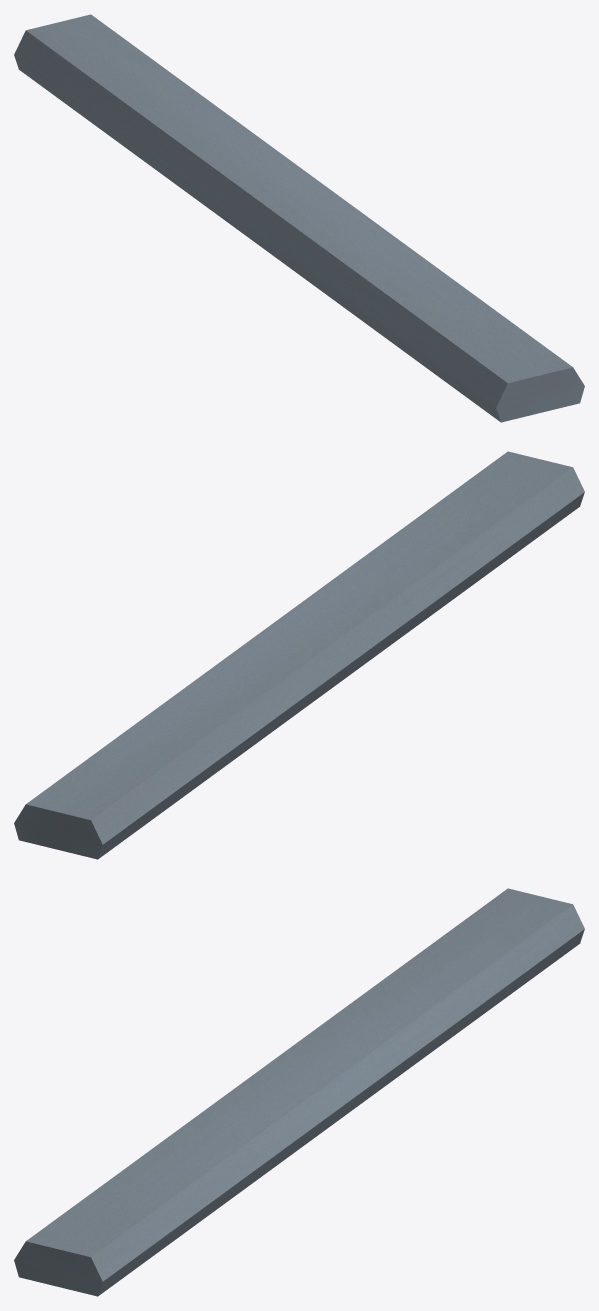
The model's file is Neon.fbx.
3 renders of one model, top to bottom at view 1: azimuth 30°, elevation 25°; view 2: azimuth 150°, elevation 25°; view 3: azimuth 330°, elevation 25°, orthographic.
Visible parts, largest first — view 1: Lampu_Neon; view 2: Lampu_Neon; view 3: Lampu_Neon.
Boxes of the visible parts, x1,y1,x2,y2 form: Lampu_Neon: (14,14,584,422); Lampu_Neon: (14,451,584,859); Lampu_Neon: (14,888,584,1296).
Size of the model in its own units: 0.1595 by 1.5 by 0.0646.
